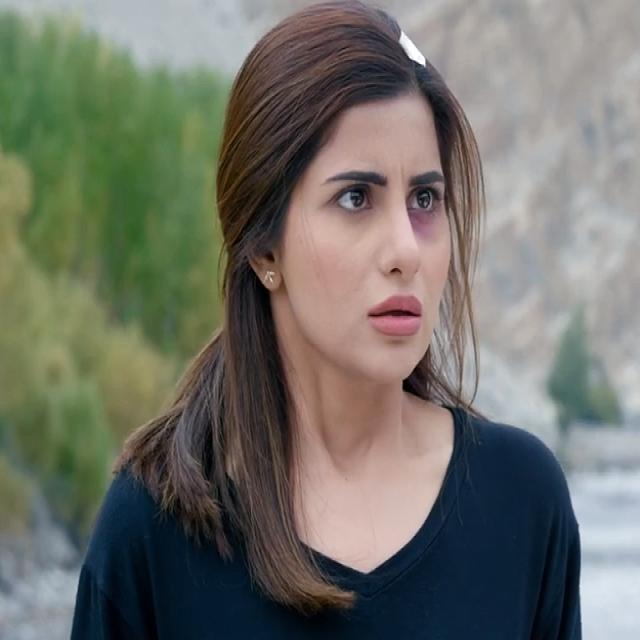mobile_phonerotation: (68, 1, 582, 638)
